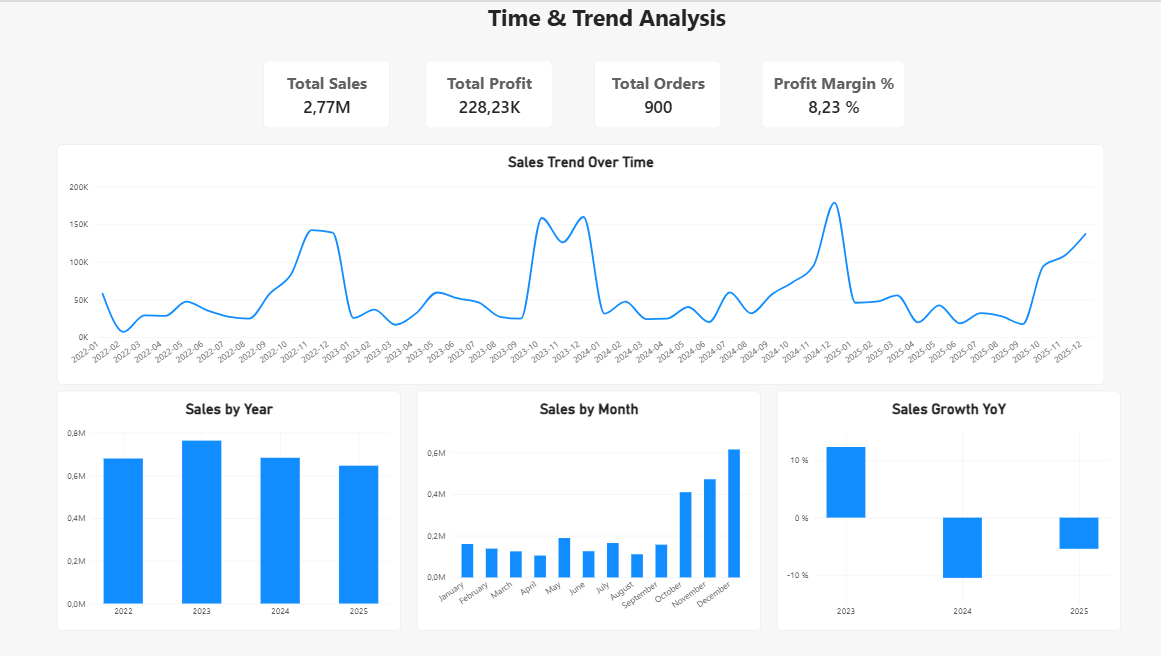

What the dashboard file says about the page in this screenshot:
{"tool":"powerbi","page":{"name":"Time & Trend Analysis","canvas":[1920,1080],"ordinal":4},"visuals":[{"type":"textbox","box":[689.5,0,625.7,65.9],"z":0},{"type":"cardVisual","fields":{"Data":["FactSales.Total Sales"]},"box":[436.4,96.7,209.9,111.1],"z":1000},{"type":"cardVisual","fields":{"Data":["FactSales.Total Profit"]},"box":[703.9,96.7,209.9,111.1],"z":2000},{"type":"cardVisual","fields":{"Data":["FactSales.Total Orders"]},"box":[981.8,96.7,209.9,111.1],"z":3000},{"type":"cardVisual","fields":{"Data":["FactSales.Profit Margin %"]},"box":[1257.6,96.7,236.7,111.1],"z":4000},{"type":"lineChart","title":"Sales Trend Over Time","fields":{"Category":["DimDate.Year-Month"],"Y":["FactSales.Total Sales"]},"box":[96.7,234.6,1724.9,395.2],"z":4001},{"type":"clusteredColumnChart","title":"Sales by Year","fields":{"Category":["DimDate.Year"],"Y":["FactSales.Total Sales"]},"box":[96.7,640.1,566,395.2],"z":4002},{"type":"clusteredColumnChart","title":"Sales by Month","fields":{"Category":["DimDate.Month Name"],"Y":["FactSales.Total Sales"]},"box":[689.5,640.1,566,395.2],"z":4003},{"type":"clusteredColumnChart","title":"Sales Growth YoY","fields":{"Category":["DimDate.Year"],"Y":["FactSales.Sales YoY %"]},"box":[1282.3,640.1,566,395.2],"z":4004}]}

Visuals, with their boxes in screenshot pixels (x1, y1, x2, y2), scaled from the page's 1920x1080 canvas onto the 1161x656 screenshot:
textbox: (x1=417, y1=0, x2=795, y2=40)
cardVisual - FactSales.Total Sales: (x1=264, y1=59, x2=391, y2=126)
cardVisual - FactSales.Total Profit: (x1=426, y1=59, x2=553, y2=126)
cardVisual - FactSales.Total Orders: (x1=594, y1=59, x2=721, y2=126)
cardVisual - FactSales.Profit Margin %: (x1=760, y1=59, x2=904, y2=126)
"Sales Trend Over Time" lineChart: (x1=58, y1=142, x2=1101, y2=383)
"Sales by Year" clusteredColumnChart: (x1=58, y1=389, x2=401, y2=629)
"Sales by Month" clusteredColumnChart: (x1=417, y1=389, x2=759, y2=629)
"Sales Growth YoY" clusteredColumnChart: (x1=775, y1=389, x2=1118, y2=629)
